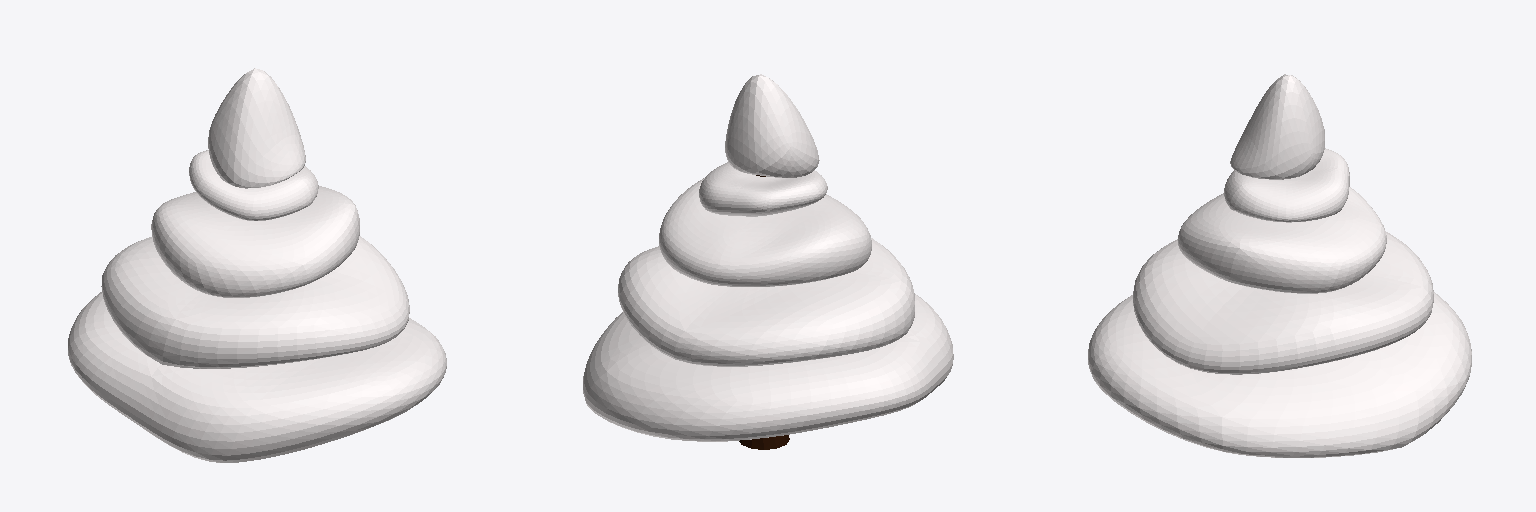
Rendered from arbol_2.obj.
3 renders of one model, left to right at view 1: azimuth 30°, elevation 25°; view 2: azimuth 150°, elevation 25°; view 3: azimuth 270°, elevation 25°, orthographic.
Parts seen in each view (by area): view 1: front1; view 2: front1; view 3: front1.
Part boxes in pixels (bbox=[...]): front1: bbox=[68, 68, 446, 462]; front1: bbox=[583, 74, 953, 449]; front1: bbox=[1088, 74, 1471, 457].
Bounding box in the file's own units: 4.05 × 4.42 × 4.21.